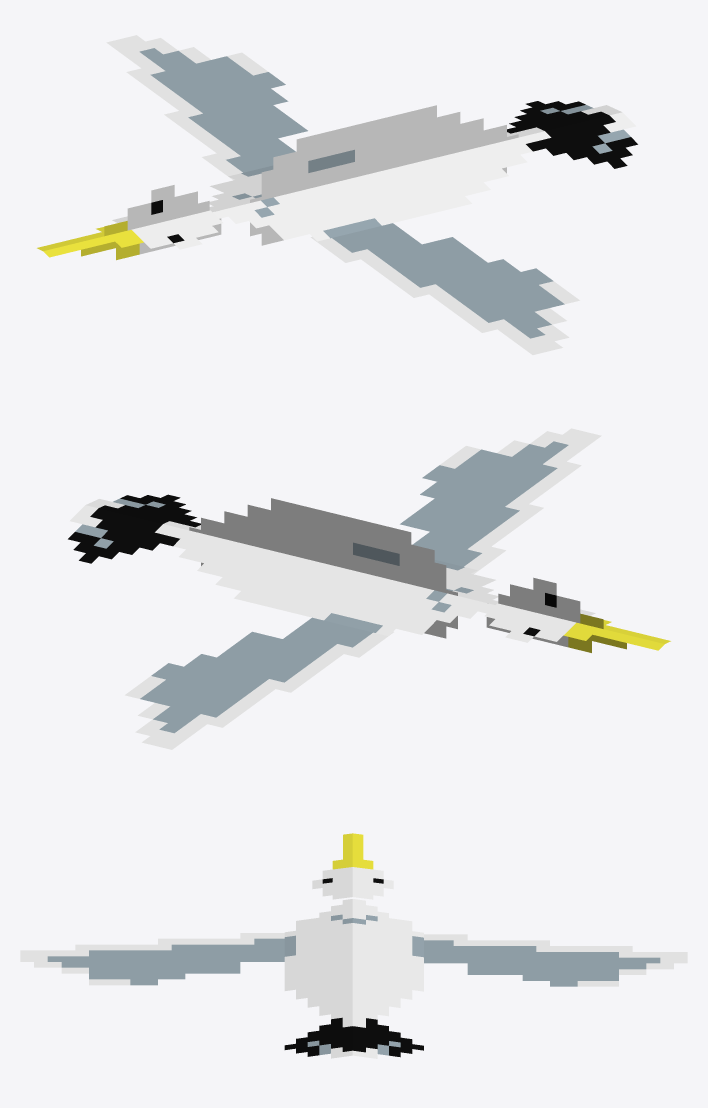
The model's file is seagull.glb.
3 views of the same model, one above another, from view 1: azimuth 30°, elevation 25°; view 2: azimuth 150°, elevation 25°; view 3: azimuth 270°, elevation 25° (orthographic). The views are drawn at different scales.
Visible parts, largest first — view 1: Seagull.001, Seagull.004, Seagull.005, Seagull, Seagull.003, Seagull.002; view 2: Seagull.001, Seagull.005, Seagull.004, Seagull, Seagull.003, Seagull.002; view 3: Seagull.001, Seagull.004, Seagull.005, Seagull.003.
Boxes of the visible parts, left/top/right/bottom form: Seagull.001: left=209, top=101, right=637, bottom=241; Seagull.004: left=310, top=223, right=579, bottom=354; Seagull.005: left=106, top=35, right=307, bottom=180; Seagull: left=250, top=105, right=518, bottom=245; Seagull.003: left=37, top=210, right=222, bottom=257; Seagull.002: left=81, top=185, right=221, bottom=260; Seagull.001: left=68, top=494, right=498, bottom=636; Seagull.005: left=125, top=617, right=393, bottom=749; Seagull.004: left=400, top=428, right=601, bottom=574; Seagull: left=189, top=498, right=457, bottom=638; Seagull.003: left=484, top=603, right=670, bottom=650; Seagull.002: left=486, top=577, right=626, bottom=652; Seagull.001: left=284, top=899, right=423, bottom=1058; Seagull.004: left=20, top=933, right=284, bottom=985; Seagull.005: left=424, top=934, right=687, bottom=986; Seagull.003: left=312, top=833, right=393, bottom=899.
Size of the model in its own units: 2.34 by 0.7149 by 3.05.
Materials: 1 (1 with a texture image).
